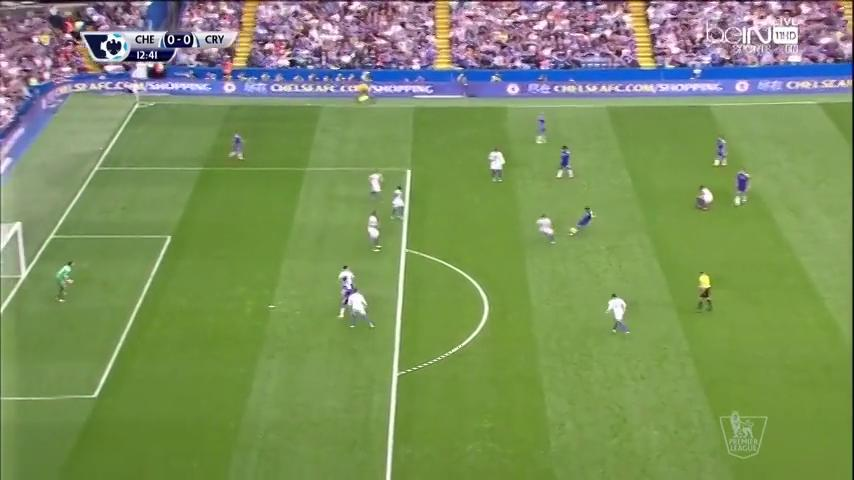football: (569, 226, 577, 234)
